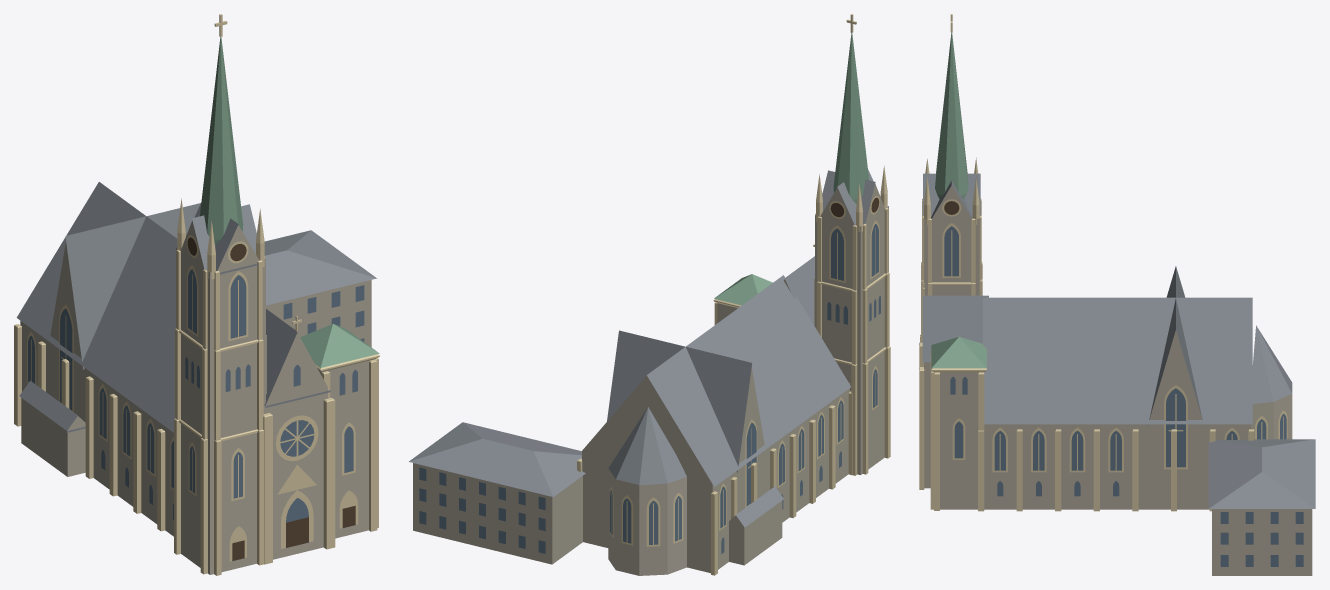
Rendered from cin-st-francis-de-sales.glb.
3 renders of one model, left to right at view 1: azimuth 30°, elevation 25°; view 2: azimuth 150°, elevation 25°; view 3: azimuth 270°, elevation 25°, orthographic. The views are drawn at different scales.
Parts seen in each view (by area): view 1: St. Francis de Sales Church; view 2: St. Francis de Sales Church; view 3: St. Francis de Sales Church.
Boxes of the visible parts, left/top/right/bottom form: St. Francis de Sales Church: left=14, top=14, right=379, bottom=575; St. Francis de Sales Church: left=409, top=14, right=890, bottom=575; St. Francis de Sales Church: left=919, top=14, right=1315, bottom=575.
Size of the model in its own units: 49.1 by 72.4 by 59.3.
